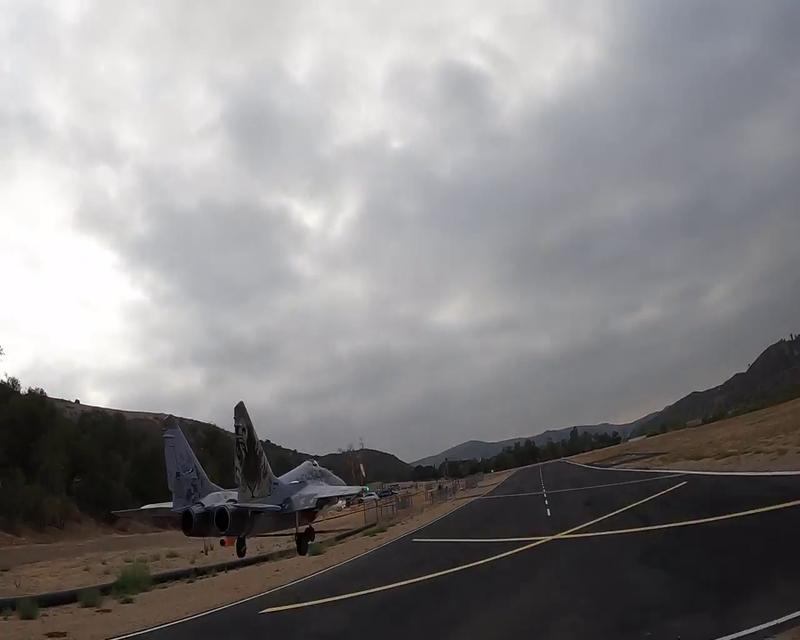UAV: (109, 398, 376, 559)
